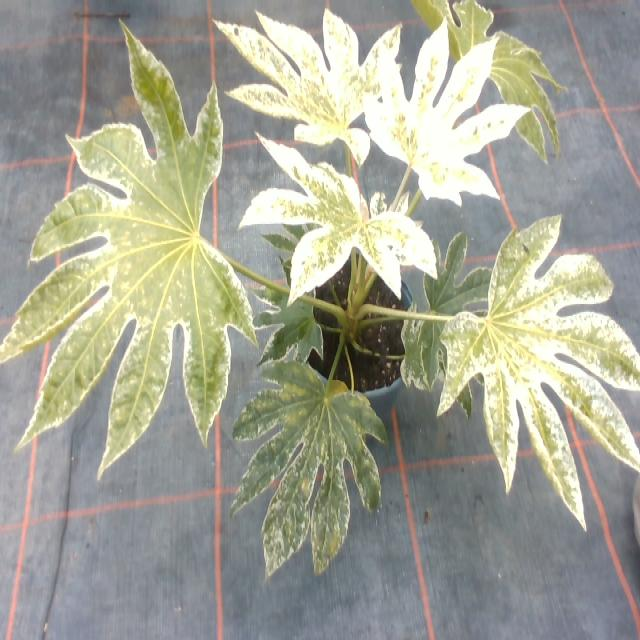Fatsia-japonica: (15, 14, 247, 498), (432, 210, 640, 529), (233, 338, 394, 578), (253, 131, 436, 340), (210, 4, 380, 163), (356, 36, 504, 214), (406, 0, 568, 160), (404, 233, 505, 411), (241, 255, 331, 363)
